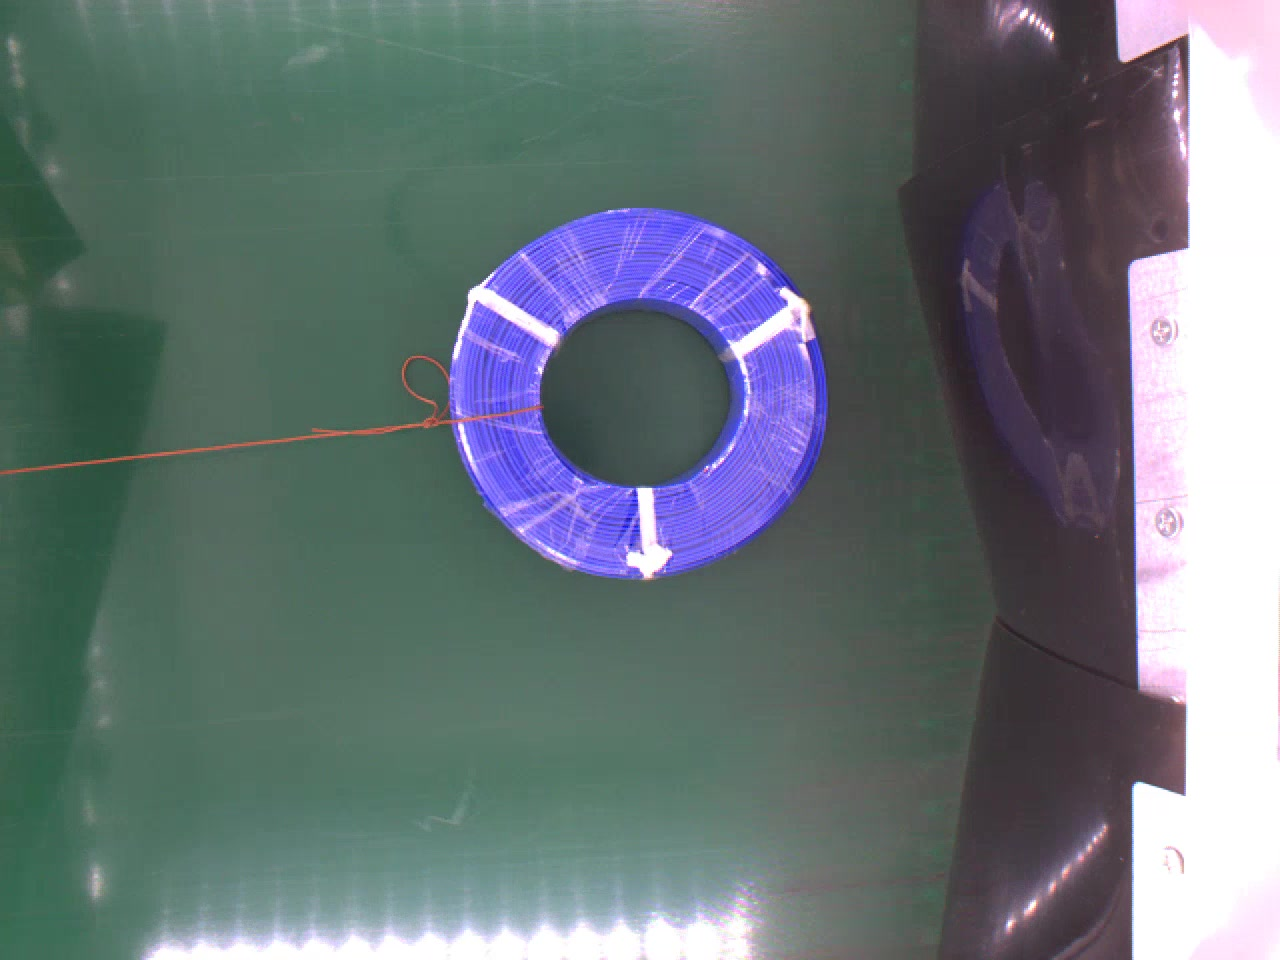blue: (449, 203, 834, 580)
